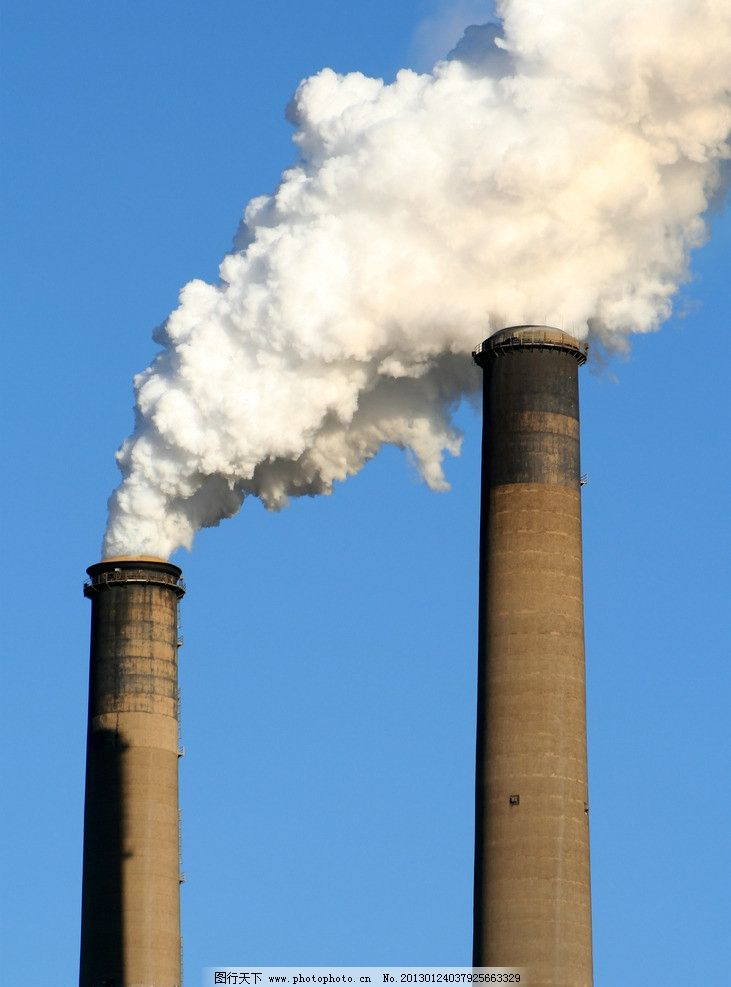dust: (74, 52, 429, 606), (437, 12, 720, 406)
